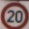20 km speed: (1, 1, 28, 29)
